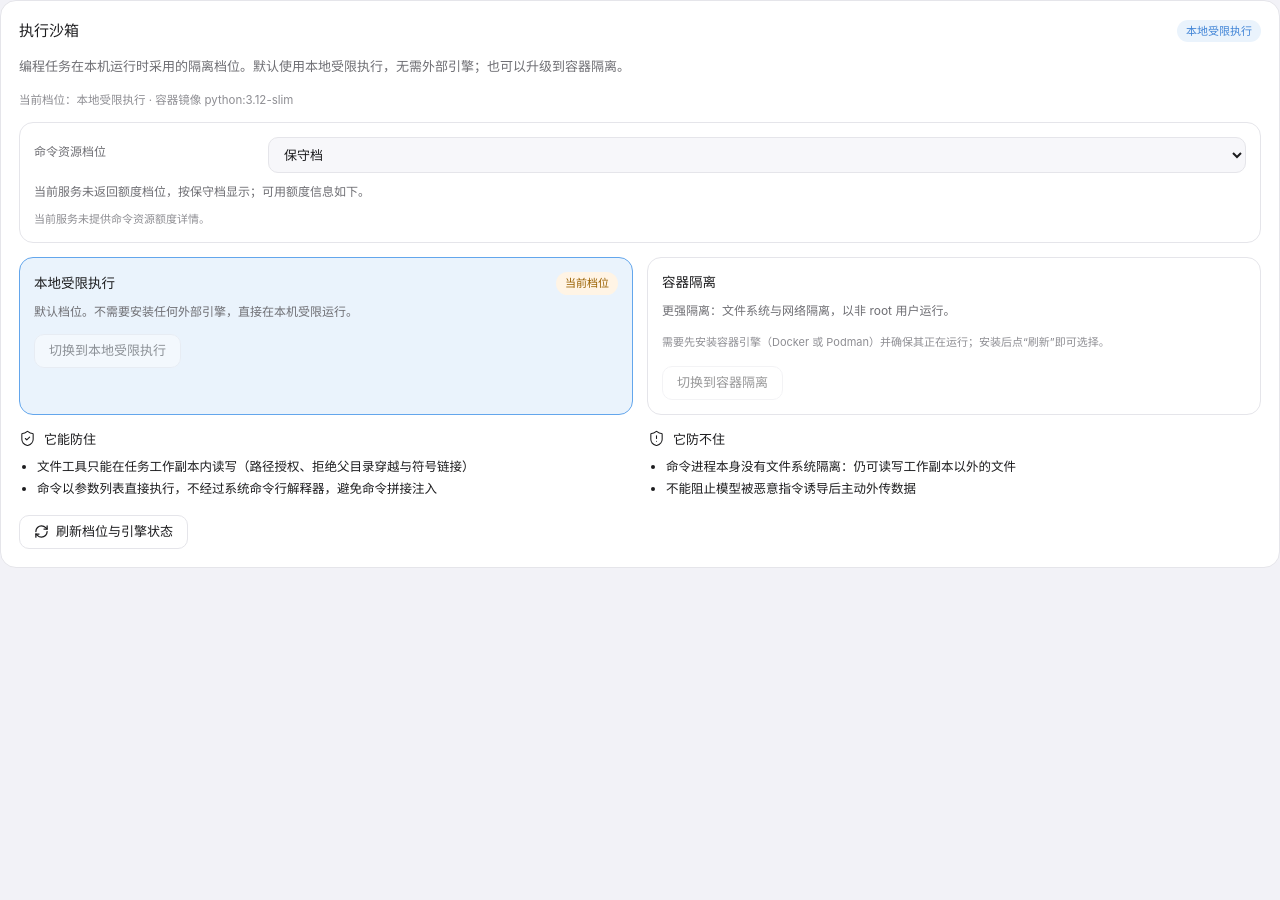
Test case: 旧后端未确认额度档位时保留原选择并给出兼容提示
Select "编程档" in the dropdown labelled "命令资源档位" at (757, 155), box [268,137,1246,173]
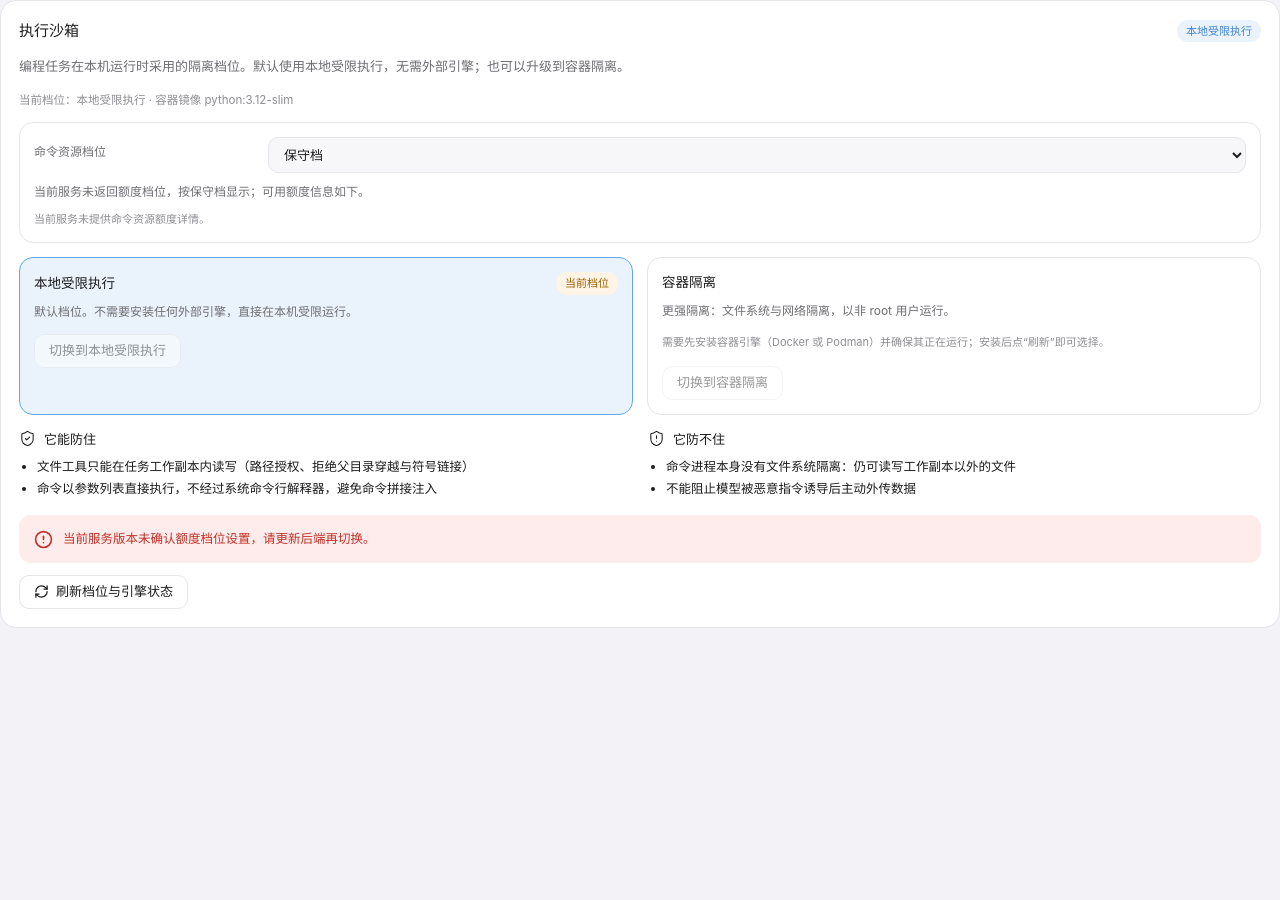
Expected: the text "当前服务版本未确认额度档位设置，请更新后端再切换。" is shown, [63,528,376,550]
